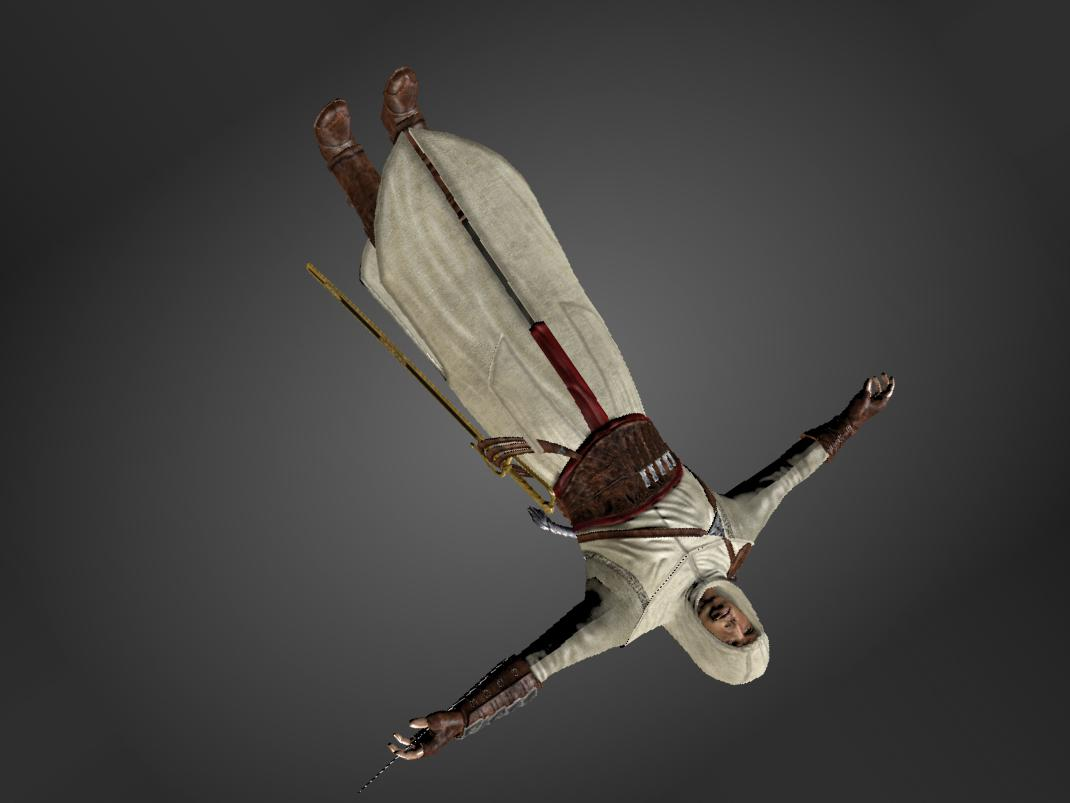clip: (518, 421, 555, 459)
